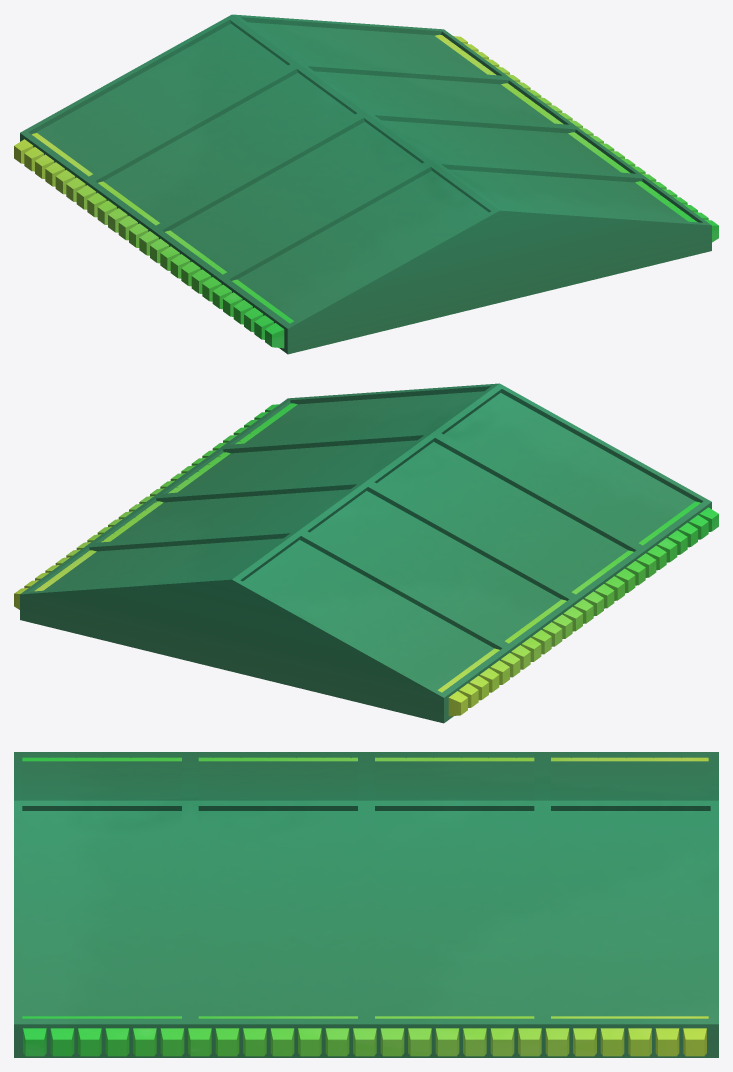
File: Shop_Roof.fbx
3 renders of one model, top to bottom at view 1: azimuth 30°, elevation 25°; view 2: azimuth 150°, elevation 25°; view 3: azimuth 270°, elevation 25°, orthographic. The views are drawn at different scales.
Visible parts, largest first — view 1: pCube62; view 2: pCube62; view 3: pCube62.
Boxes of the visible parts, x1=… form: pCube62: x1=14, y1=14, x2=718, y2=354; pCube62: x1=14, y1=383, x2=718, y2=723; pCube62: x1=14, y1=752, x2=718, y2=1057.
Size of the model in its own units: 4478 by 882 by 4649.
